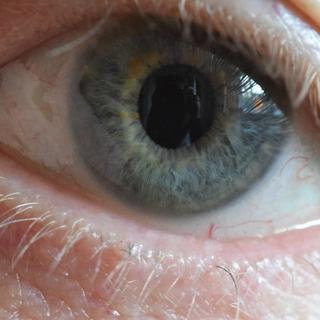pupil: (136, 67, 217, 148)
